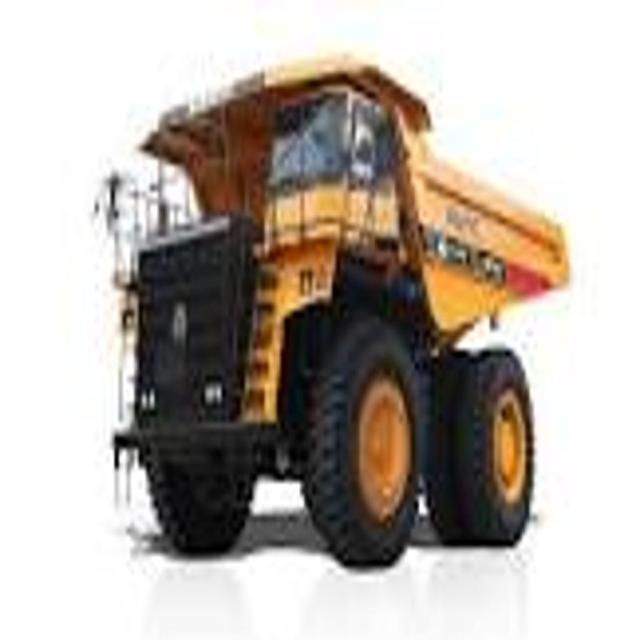dump_truck: (92, 51, 570, 592)
